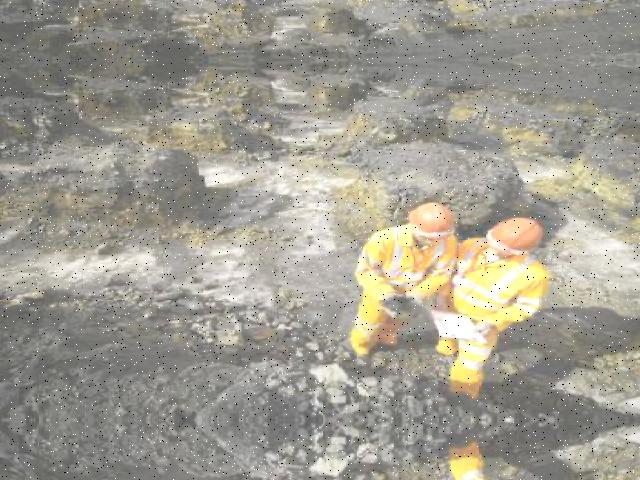Helmet: (475, 213, 552, 257), (403, 199, 466, 237)
